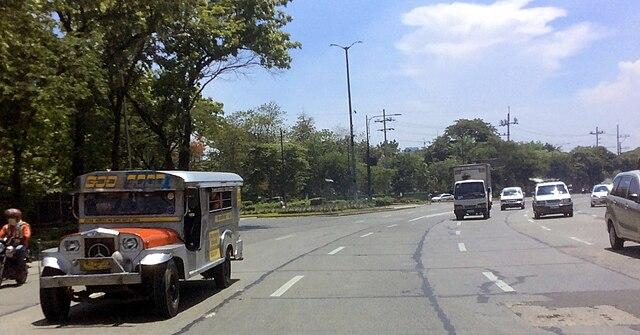car: (603, 168, 640, 253), (529, 179, 577, 219), (500, 187, 525, 210), (590, 184, 612, 207), (431, 193, 454, 202)
jeepney: (36, 167, 244, 320)
motorcycle: (0, 207, 30, 287)
truck: (449, 162, 494, 222)
